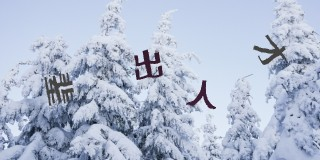人: (187, 79, 215, 111)
出: (133, 47, 164, 79)
才: (252, 35, 287, 66)
辈: (42, 73, 75, 105)
